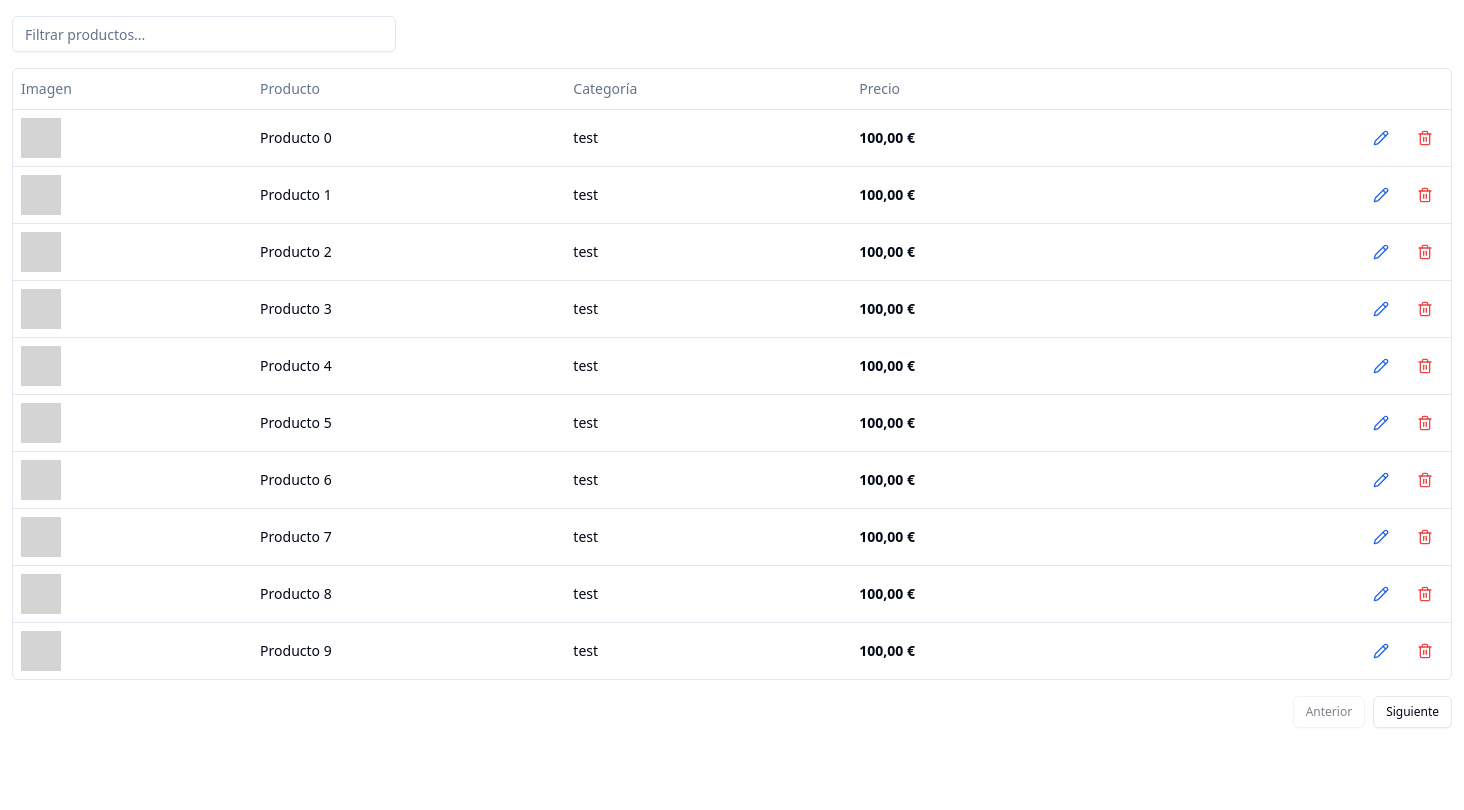
Test: DataTable Component › Should render paginate data correcly
Check: the text "Producto 1" is shown, box [260, 184, 332, 204]
Check: the text "Producto 9" is shown, box [260, 640, 332, 660]
Step 1. Click the button "Siguiente" → (1413, 712), box [1373, 696, 1452, 728]
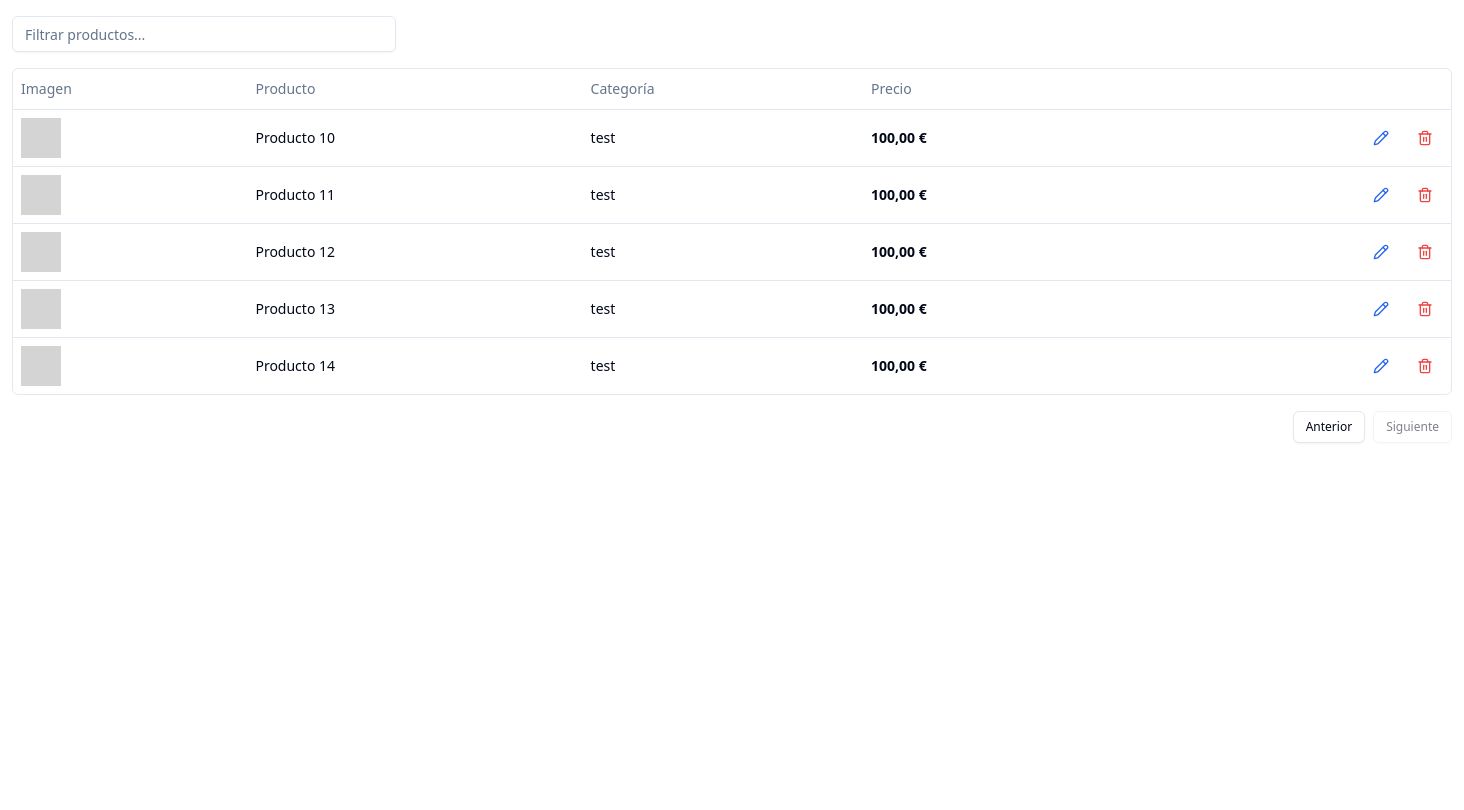
Check: the text "Producto 11" is shown, box [255, 184, 335, 204]
Check: the button "Anterior" is enabled, box [1293, 410, 1365, 442]
